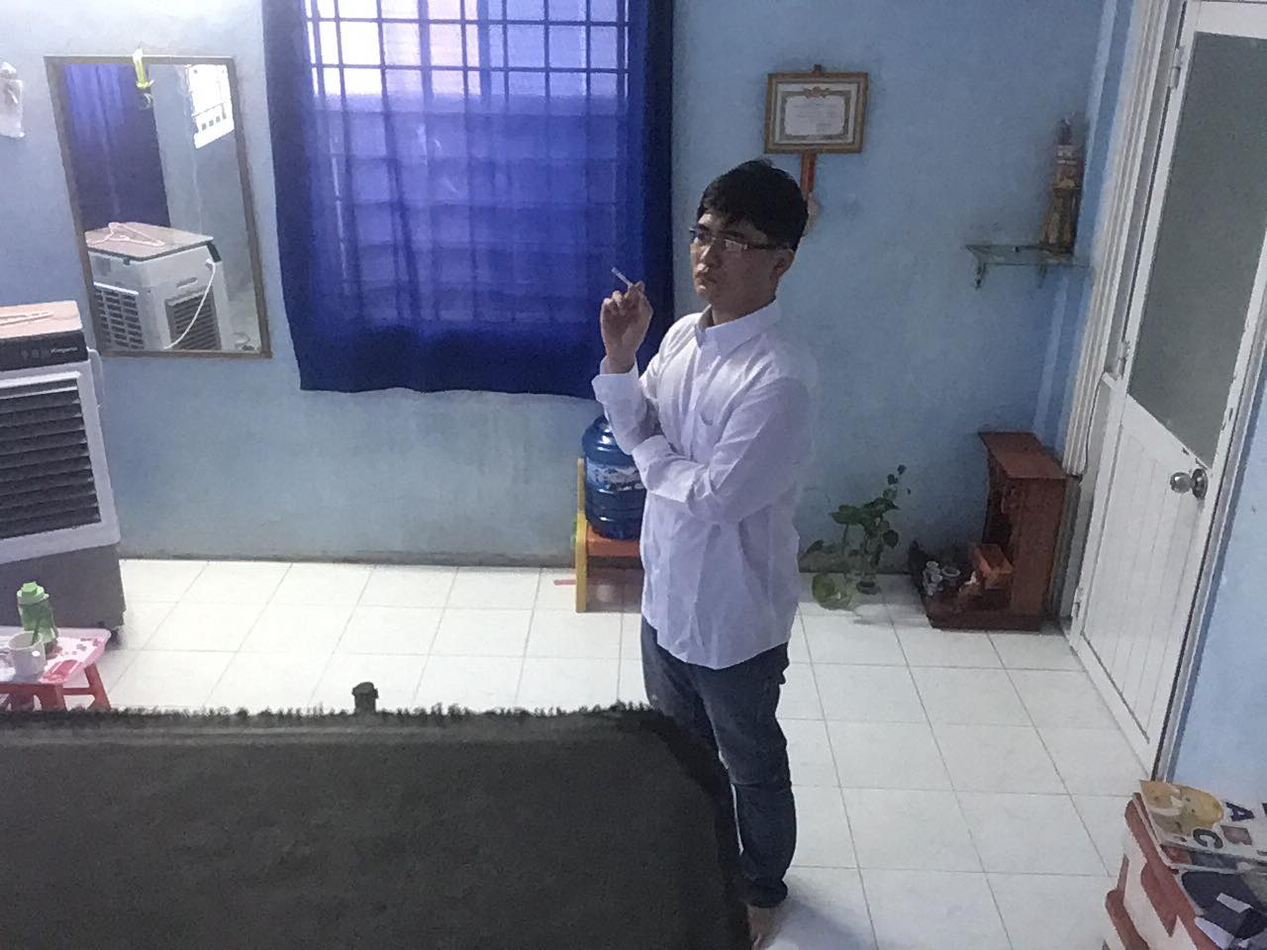cigarette: (605, 262, 648, 298)
person: (550, 152, 896, 950)
